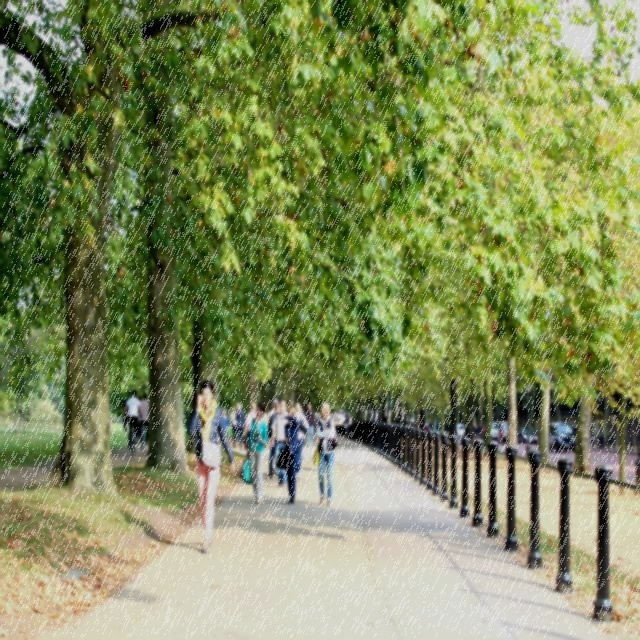pessoa: (189, 380, 237, 554), (116, 506, 204, 552), (274, 402, 302, 504), (312, 400, 338, 508), (246, 400, 268, 504), (396, 415, 487, 440), (271, 398, 289, 488), (122, 388, 144, 449), (292, 402, 309, 480), (268, 401, 280, 479), (138, 392, 150, 445), (234, 402, 246, 449), (244, 401, 257, 444), (305, 402, 316, 448), (228, 406, 238, 448), (331, 411, 354, 425), (222, 407, 230, 437), (266, 397, 276, 420), (312, 411, 320, 432), (344, 411, 349, 442), (274, 451, 278, 474), (300, 407, 305, 415), (275, 397, 279, 402)
